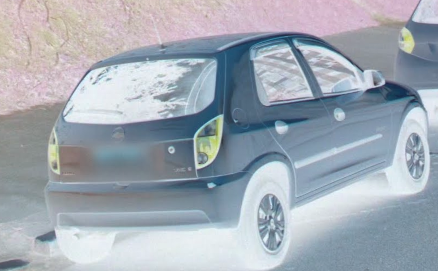car: (41, 31, 431, 267)
